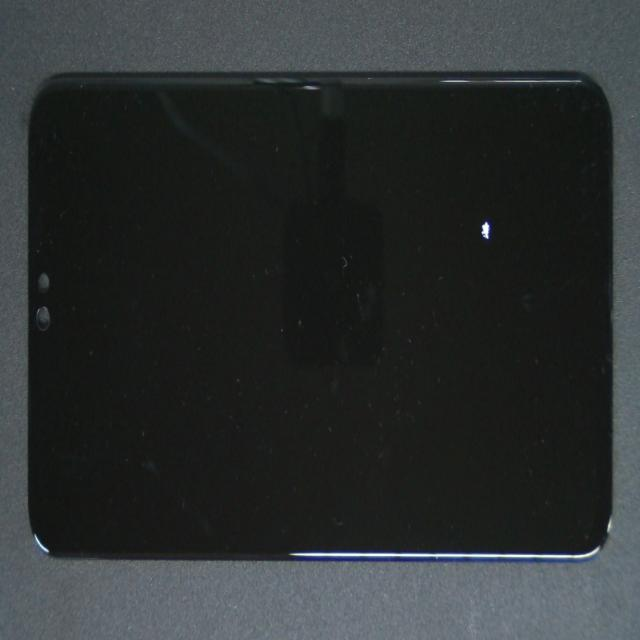Dislodged Screen: (466, 214, 501, 264)
